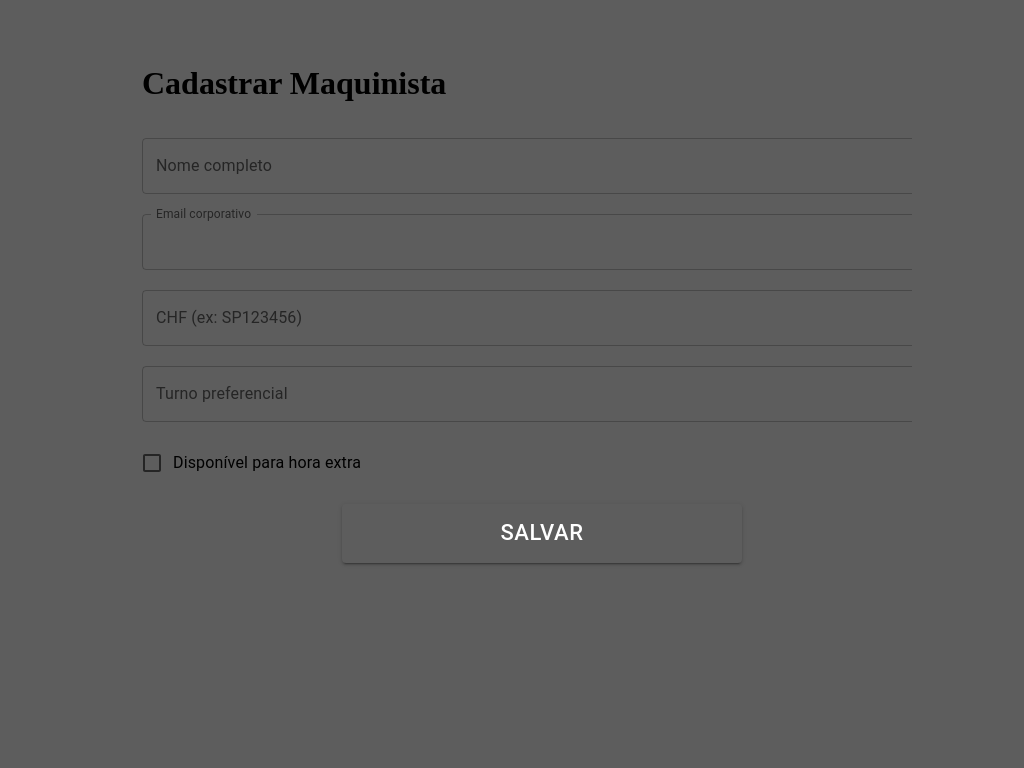
Test case: NewDriverModal › Shouldn't send with empty values and show error messages
What coordinates should you click on to do the following:
click the button "Salvar"
I would click on:
 (542, 534)
Its box is [342, 504, 742, 563].
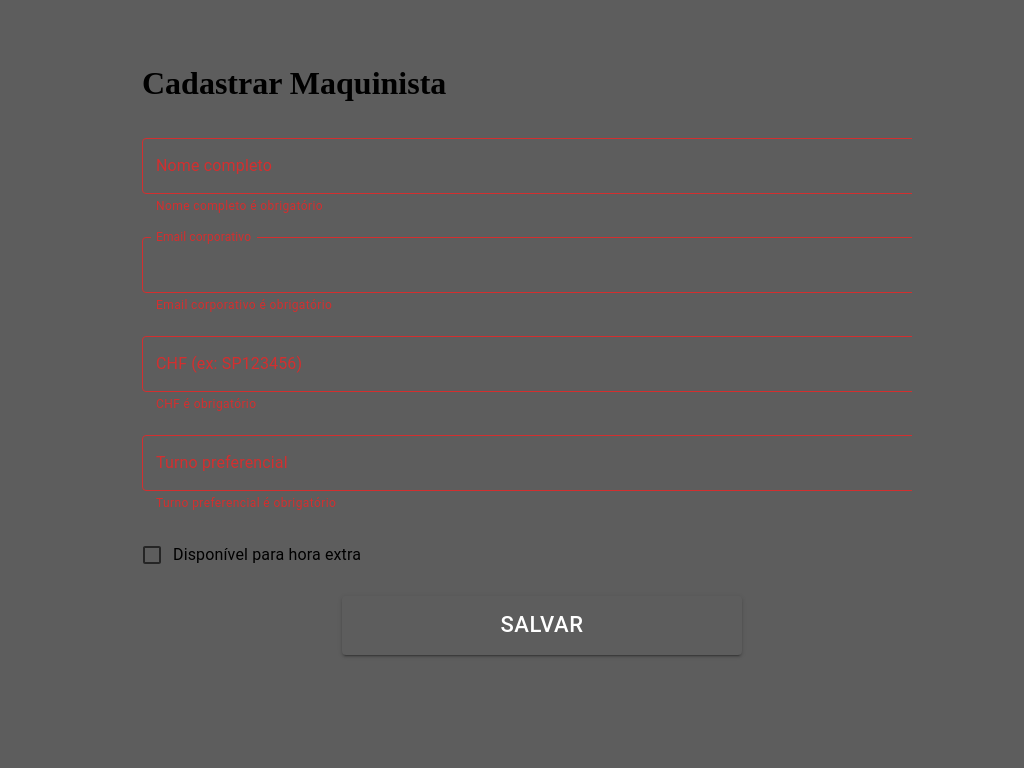
Result: the text "Nome completo é obrigatório" is shown at [156, 199, 323, 213]
Result: the text "Email corporativo é obrigatório" is shown at [156, 298, 332, 312]
Result: the text "CHF é obrigatório" is shown at [156, 397, 256, 411]
